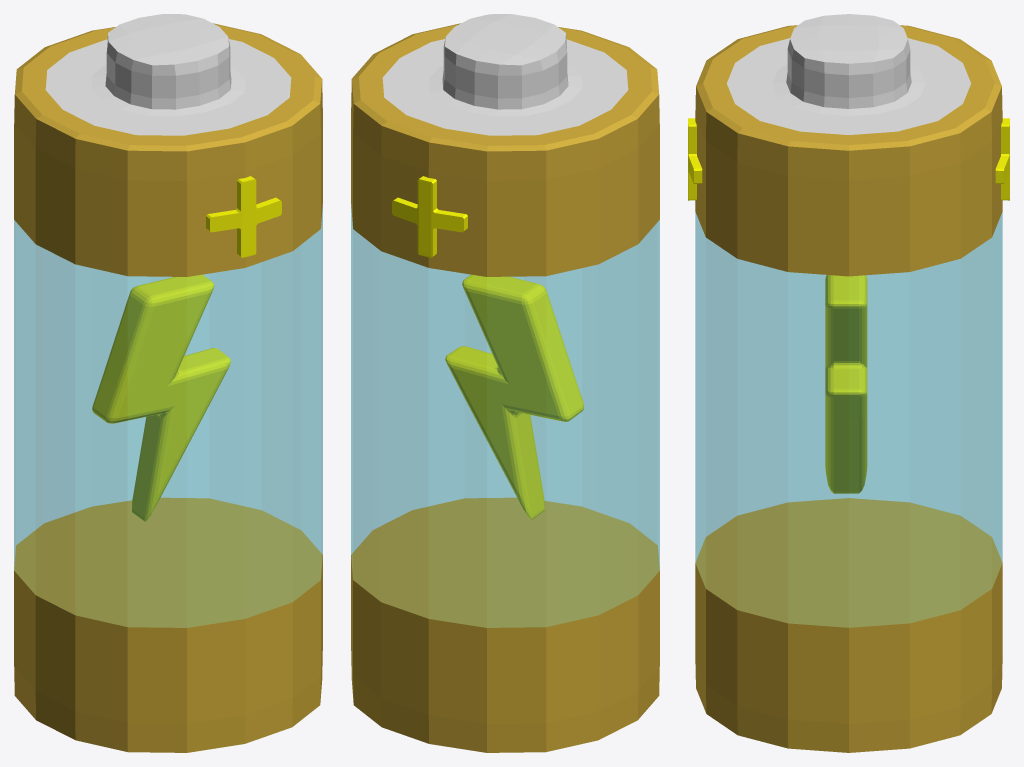
The model's file is battery.fbx.
3 views of the same model, side by side, from view 1: azimuth 30°, elevation 25°; view 2: azimuth 150°, elevation 25°; view 3: azimuth 270°, elevation 25° (orthographic).
Visible parts, largest first — view 1: Cube, Cube.002, Cube.001; view 2: Cube, Cube.002, Cube.001; view 3: Cube, Cube.002, Cube.001.
Boxes of the visible parts, x1,y1,x2,y2 form: Cube: (14, 14, 322, 752); Cube.002: (92, 274, 230, 521); Cube.001: (206, 176, 281, 257); Cube: (351, 14, 659, 752); Cube.002: (445, 274, 583, 519); Cube.001: (392, 176, 467, 257); Cube: (695, 14, 1002, 752); Cube.002: (825, 275, 867, 493); Cube.001: (688, 118, 1009, 200).
Size of the model in its own units: 183 by 430 by 192.
